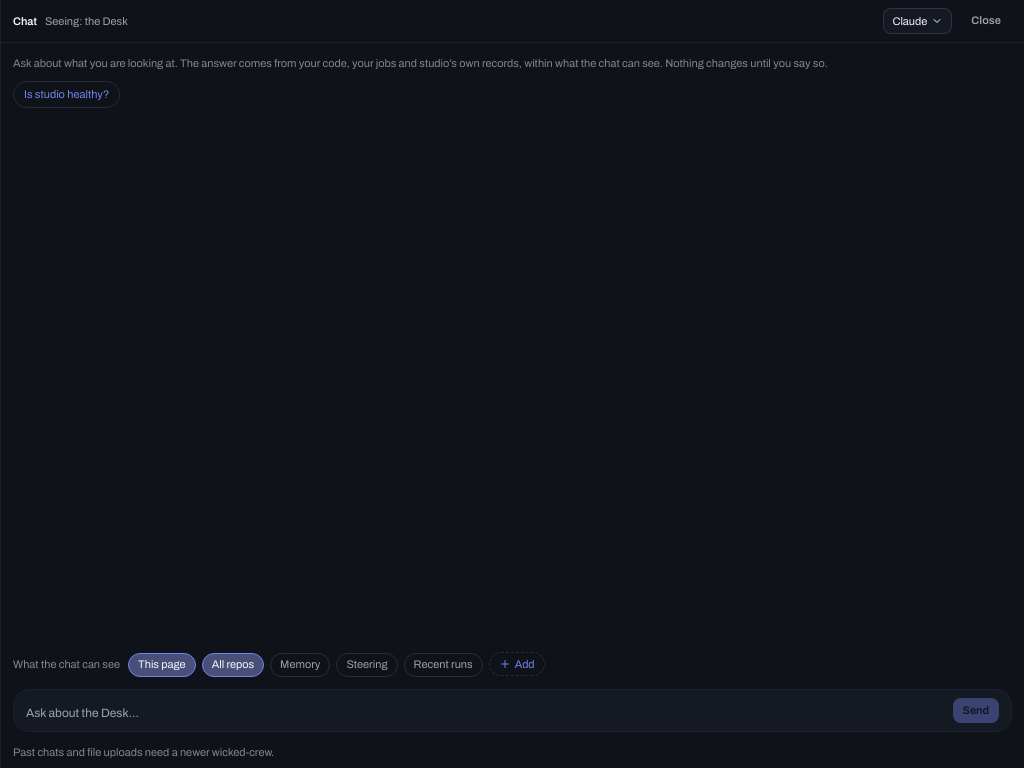
Test case: the PA is still answering (§8 F6) › a 409 chat_scope_changed says to start a new chat in crew’s own plain words and keeps the draft (crew#1020)
Type "first" into the text box with test id "assist-input" at coordinates (485, 712), box [26, 702, 944, 722]
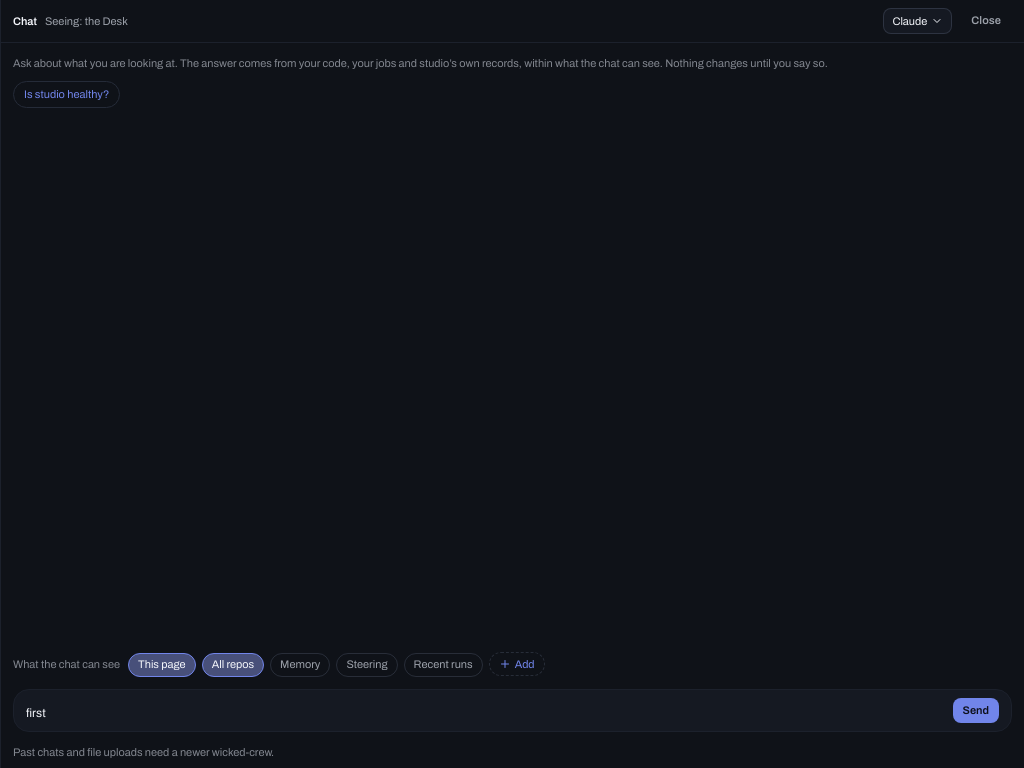
Click the button with test id "assist-send" at coordinates (976, 710), box [952, 698, 999, 722]
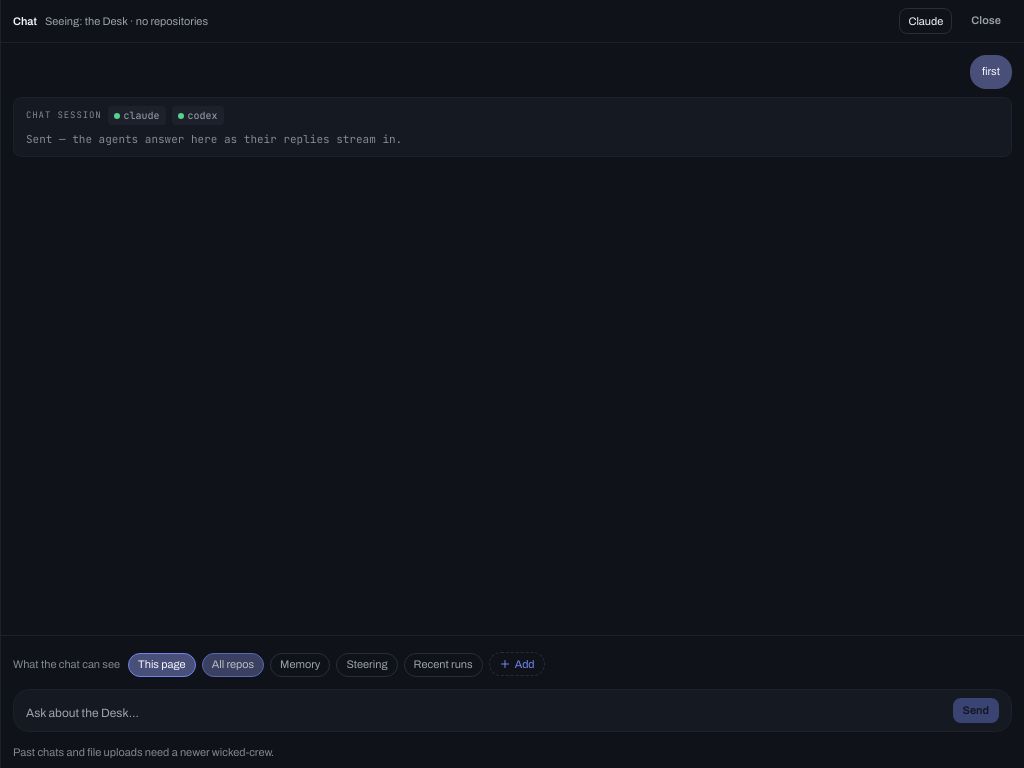
Type "what is in the new repo?" into the text box with test id "assist-input" at coordinates (485, 712), box [26, 702, 944, 722]
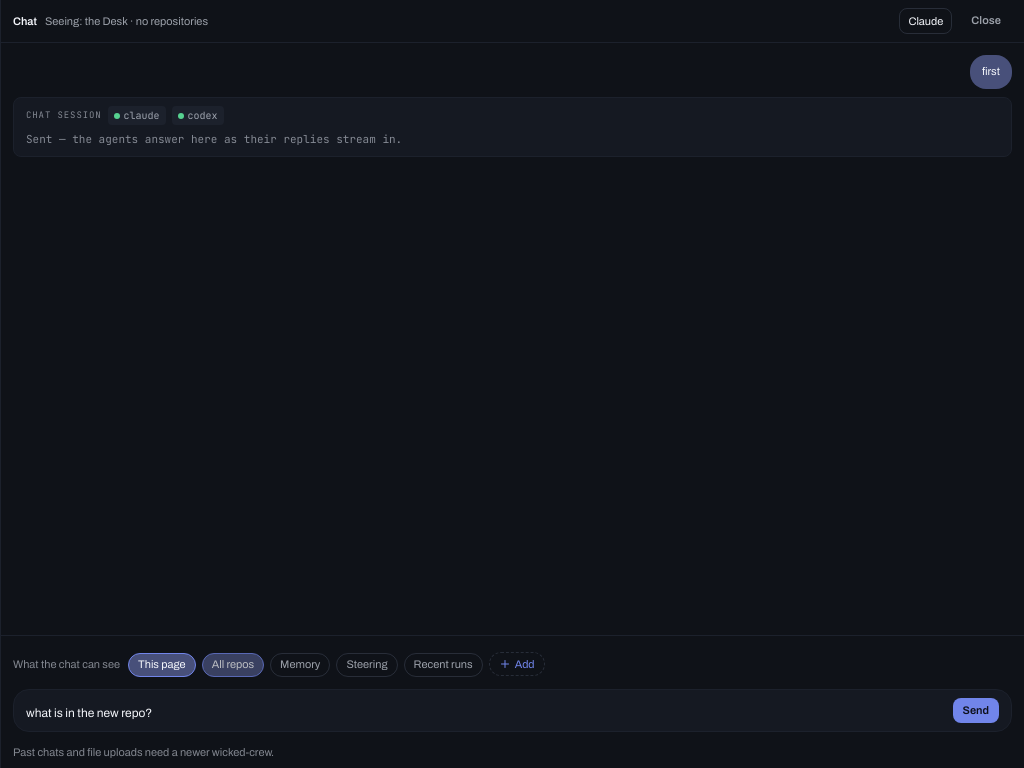
Click the button with test id "assist-send" at coordinates (976, 710), box [952, 698, 999, 722]
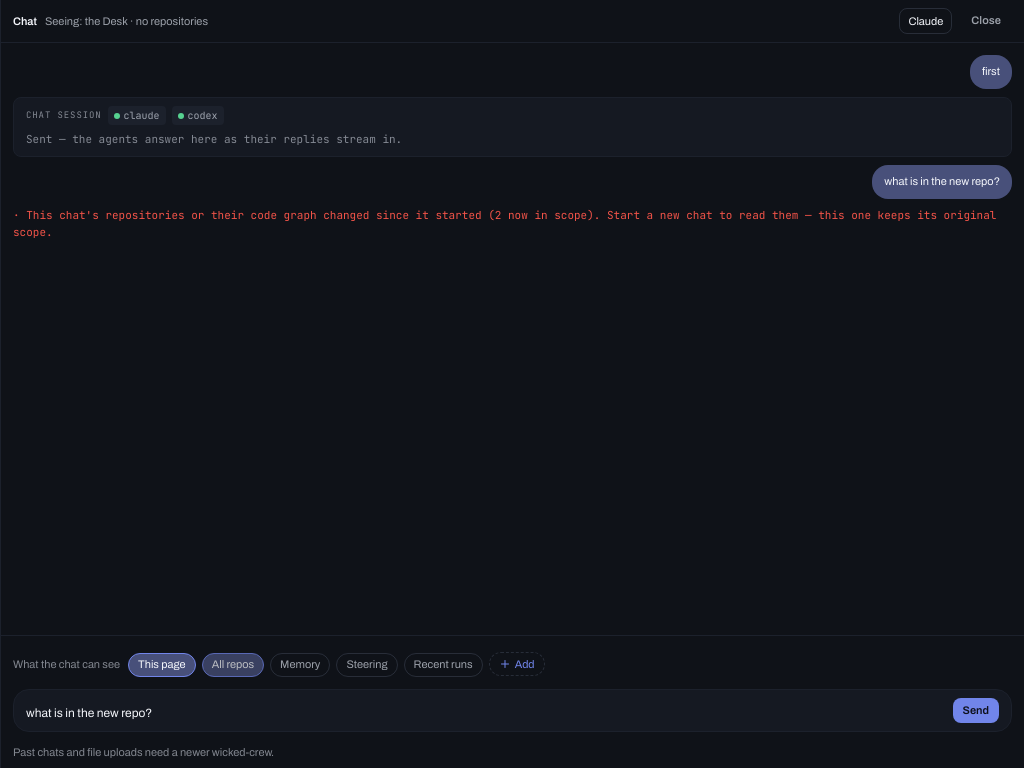
Expected: the text "Start a new chat to read them" does not show "the daemon refused this", [13, 206, 1012, 242]
Expected: the text "Start a new chat to read them" shows "This chat's repositories or their code graph changed since it started (2 now in scope). Start a new chat to read them — this one keeps its original scope.", [13, 208, 996, 239]
